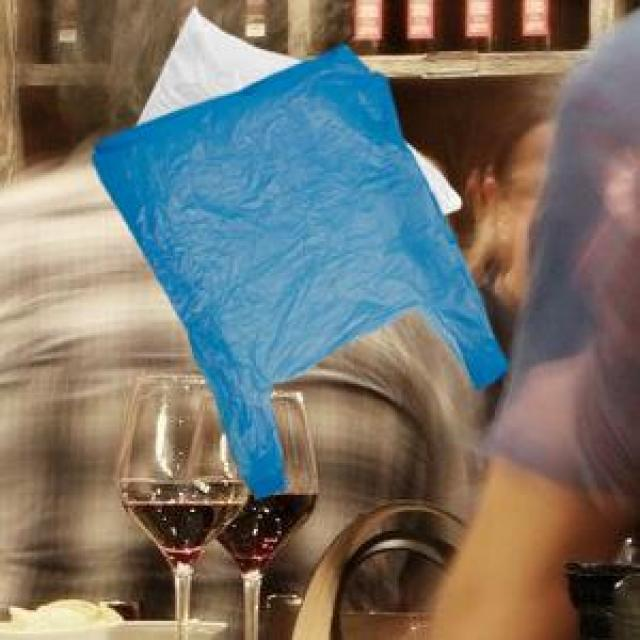Bolsa-de-nilon: (91, 45, 507, 505)
